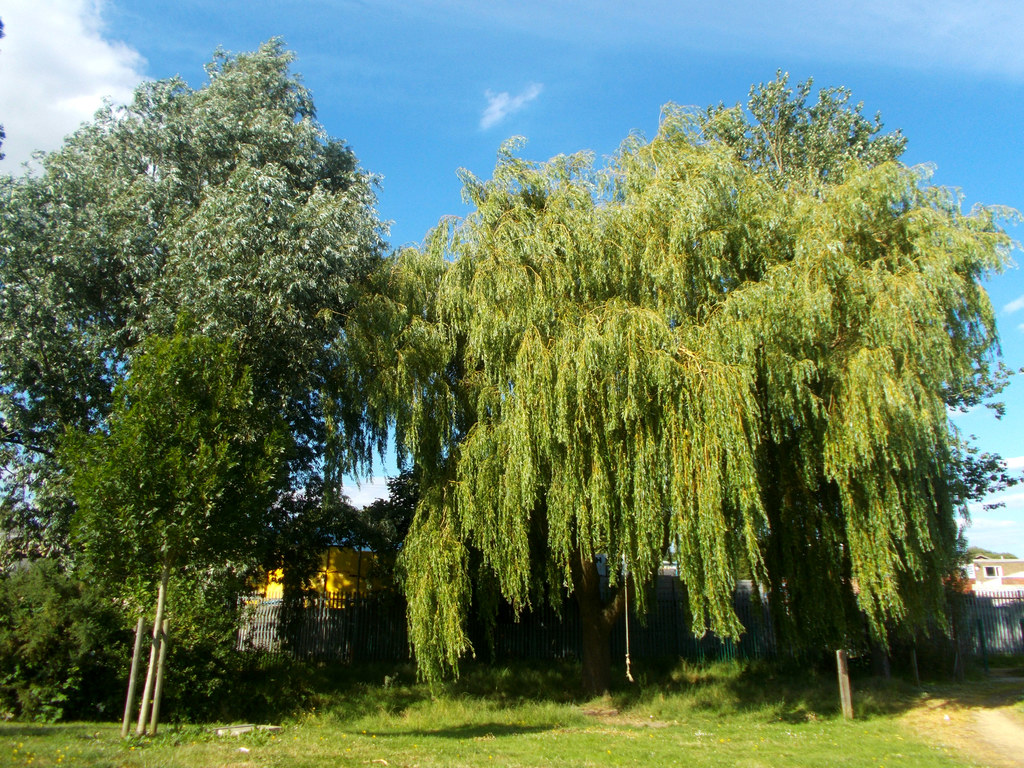Tree: (0, 15, 1024, 736)
